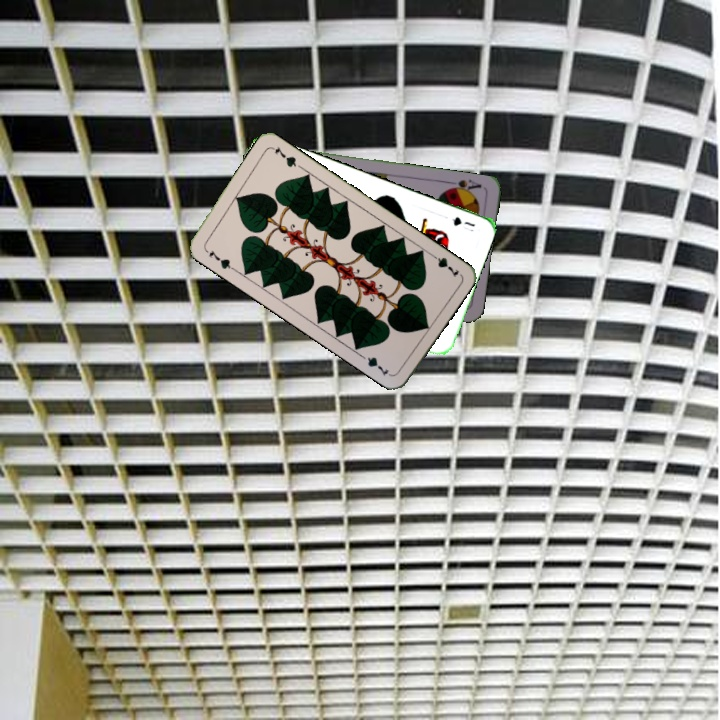G7: (426, 249, 462, 280), (201, 245, 237, 272)
GU: (448, 212, 478, 234)
SA: (444, 176, 484, 196)
